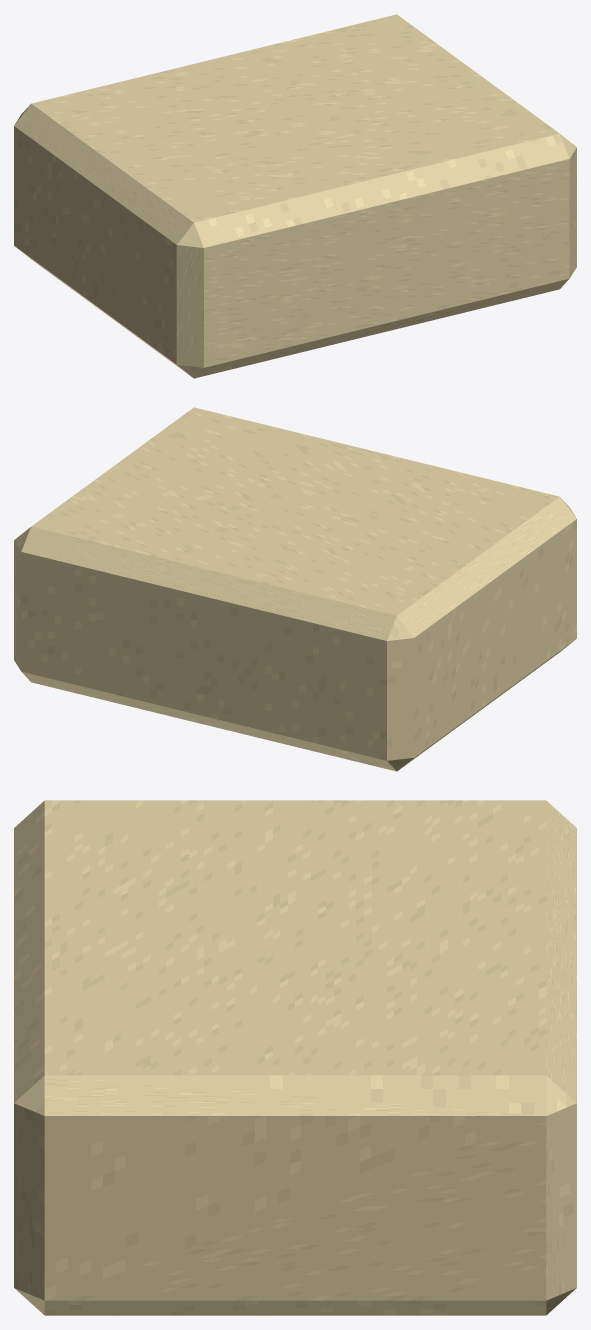
Rendered from tofu.glb.
The picture shows the model from 3 angles, top to bottom: view 1: azimuth 30°, elevation 25°; view 2: azimuth 150°, elevation 25°; view 3: azimuth 270°, elevation 25°; orthographic projection. The views are drawn at different scales.
Parts seen in each view (by area): view 1: block_firm tofu block; view 2: block_firm tofu block; view 3: block_firm tofu block.
Part boxes in pixels (box(x1,y1,x2,y2)): block_firm tofu block: box(14, 14, 576, 378); block_firm tofu block: box(14, 407, 576, 771); block_firm tofu block: box(14, 800, 576, 1315).
Bounding box in the file's own units: 0.0827 × 0.0308 × 0.0654.
1 material, 1 textured.
